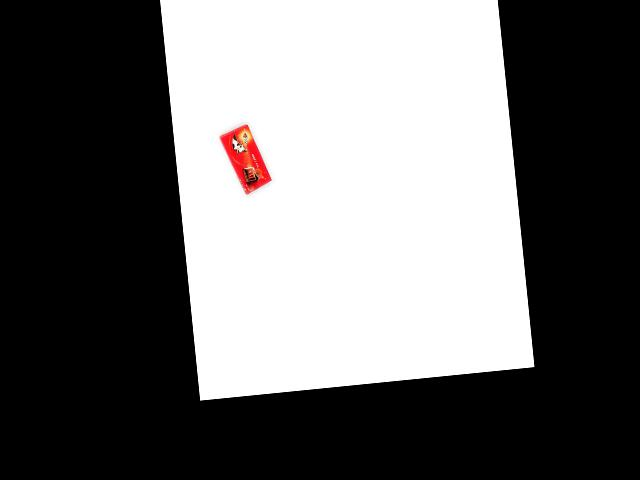chocolate: (218, 123, 273, 197)
